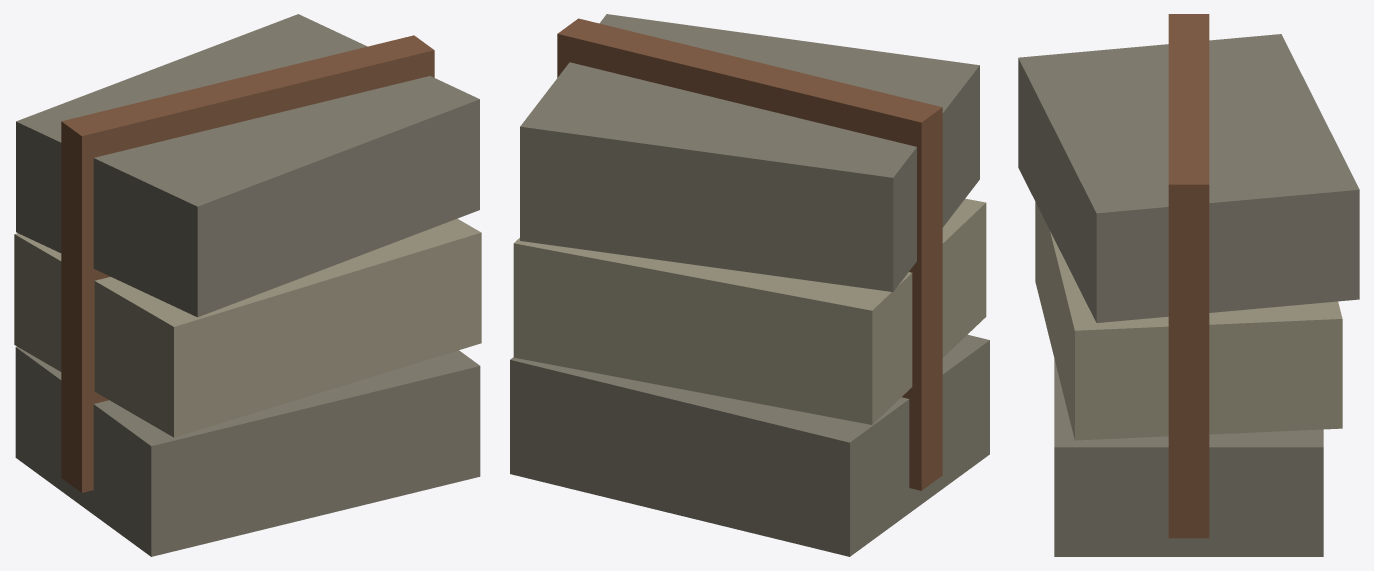
The model's file is item_good_rations.glb.
3 views of the same model, side by side, from view 1: azimuth 30°, elevation 25°; view 2: azimuth 150°, elevation 25°; view 3: azimuth 270°, elevation 25° (orthographic). The views are drawn at different scales.
Parts seen in each view (by area): view 1: block2, block0, block1, tape; view 2: block2, block0, block1, tape; view 3: block2, block1, block0, tape.
Boxes of the visible parts, x1,y1,x2,y2 form: block2: (16,14,479,317); block0: (15,346,480,556); block1: (14,218,481,437); tape: (61,35,434,492); block2: (520,14,979,291); block0: (510,334,989,556); block1: (513,198,986,424); tape: (557,18,942,490); block2: (1018,34,1359,322); block1: (1035,202,1342,440); block0: (1054,359,1323,556); tape: (1168,14,1209,538).
Bounding box in the file's own units: 0.6309 × 0.62 × 0.5077.
